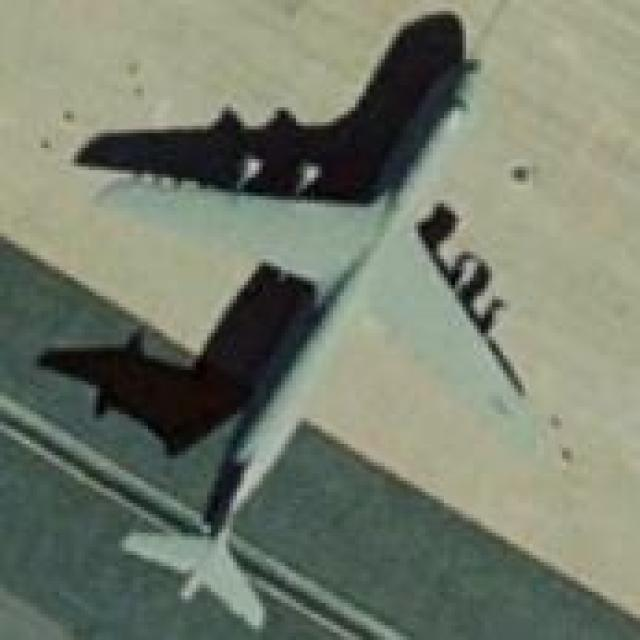C-5_TopDown: (31, 13, 552, 632)
